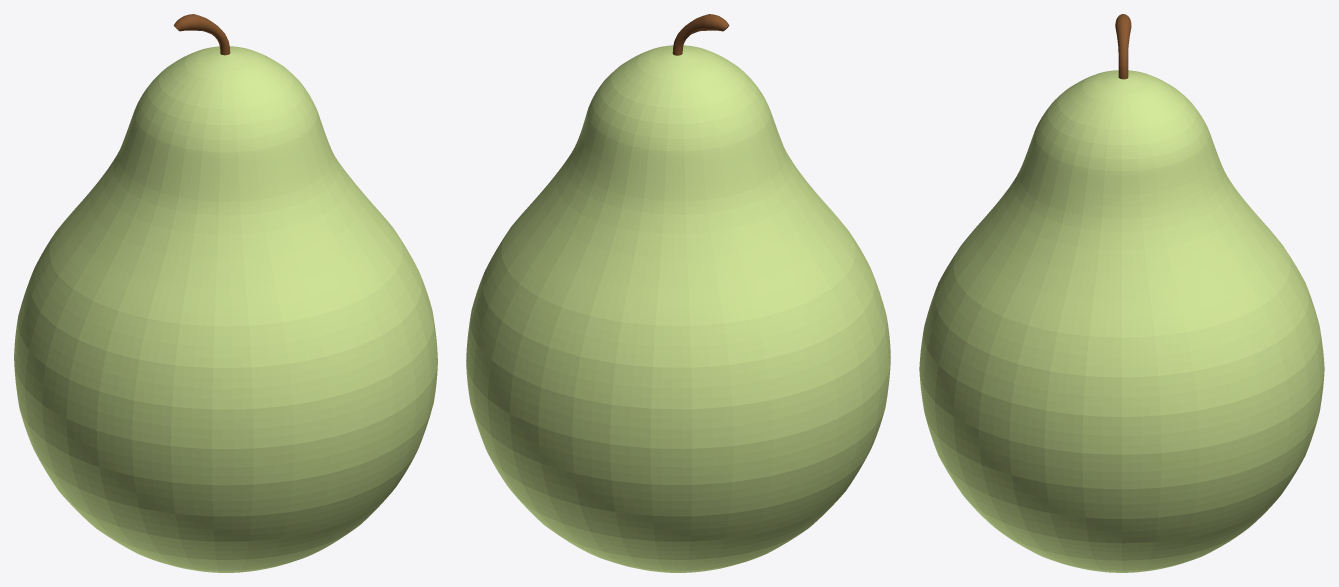
File: pear.glb
3 renders of one model, left to right at view 1: azimuth 30°, elevation 25°; view 2: azimuth 150°, elevation 25°; view 3: azimuth 270°, elevation 25°, orthographic. The views are drawn at different scales.
Parts seen in each view (by area): view 1: Sphere.001, Cylinder; view 2: Sphere.001, Cylinder; view 3: Sphere.001, Cylinder.
Boxes of the visible parts, bbox=[...] form: Sphere.001: bbox=[14, 46, 437, 572]; Cylinder: bbox=[173, 14, 230, 55]; Sphere.001: bbox=[466, 45, 890, 572]; Cylinder: bbox=[672, 14, 729, 55]; Sphere.001: bbox=[919, 70, 1324, 572]; Cylinder: bbox=[1115, 14, 1131, 79].
Size of the model in its own units: 1.97 by 2.79 by 1.97.
